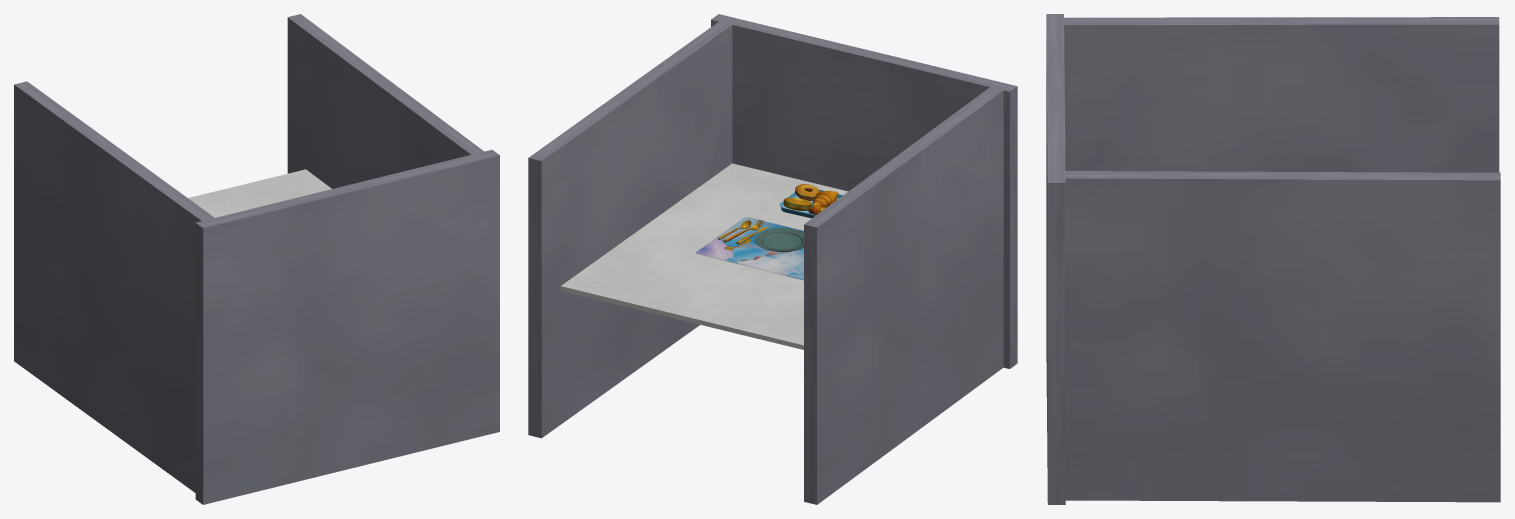
Rendered from ours.glb.
3 renders of one model, left to right at view 1: azimuth 30°, elevation 25°; view 2: azimuth 150°, elevation 25°; view 3: azimuth 270°, elevation 25°, orthographic. The views are drawn at different scales.
Visible parts, largest first — view 1: wall_0, wall_2, wall_1, table_0; view 2: wall_2, wall_1, wall_0, table_0, obj_placemat_0, obj_plate_0; view 3: wall_1, wall_2, wall_0.
Boxes of the visible parts, x1,y1,x2,y2 form: wall_0: [195, 149, 499, 504]; wall_2: [14, 81, 214, 492]; wall_1: [287, 14, 483, 188]; table_0: [188, 169, 331, 217]; wall_2: [804, 87, 1003, 504]; wall_1: [528, 19, 734, 438]; wall_0: [711, 14, 1017, 368]; table_0: [560, 163, 848, 349]; obj_placemat_0: [696, 217, 803, 280]; obj_plate_0: [755, 228, 803, 252]; wall_1: [1056, 171, 1500, 502]; wall_2: [1055, 17, 1499, 172]; wall_0: [1046, 14, 1065, 504].
Size of the model in its own units: 1.35 by 1.2 by 1.53.
14 materials, 14 textured.
